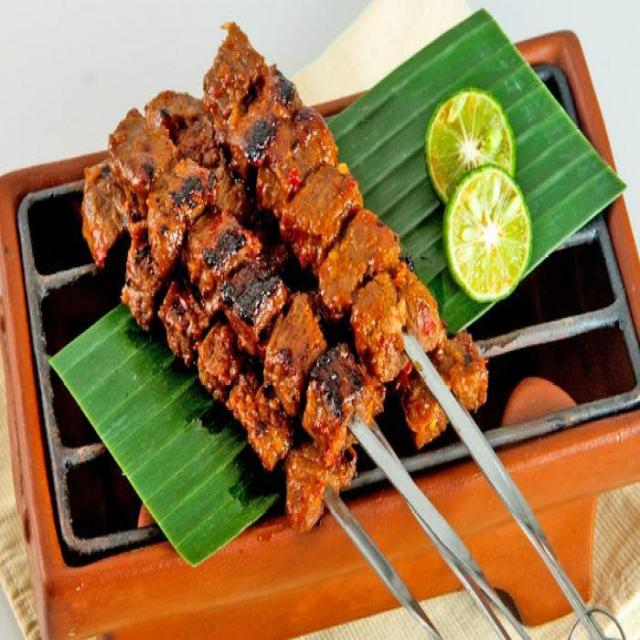Sate: (130, 56, 510, 640)
